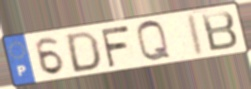6: (34, 35, 67, 77)
B: (199, 10, 240, 54)
D: (65, 30, 102, 74)
F: (98, 23, 131, 69)
I: (186, 12, 206, 59)
Q: (135, 19, 174, 64)
